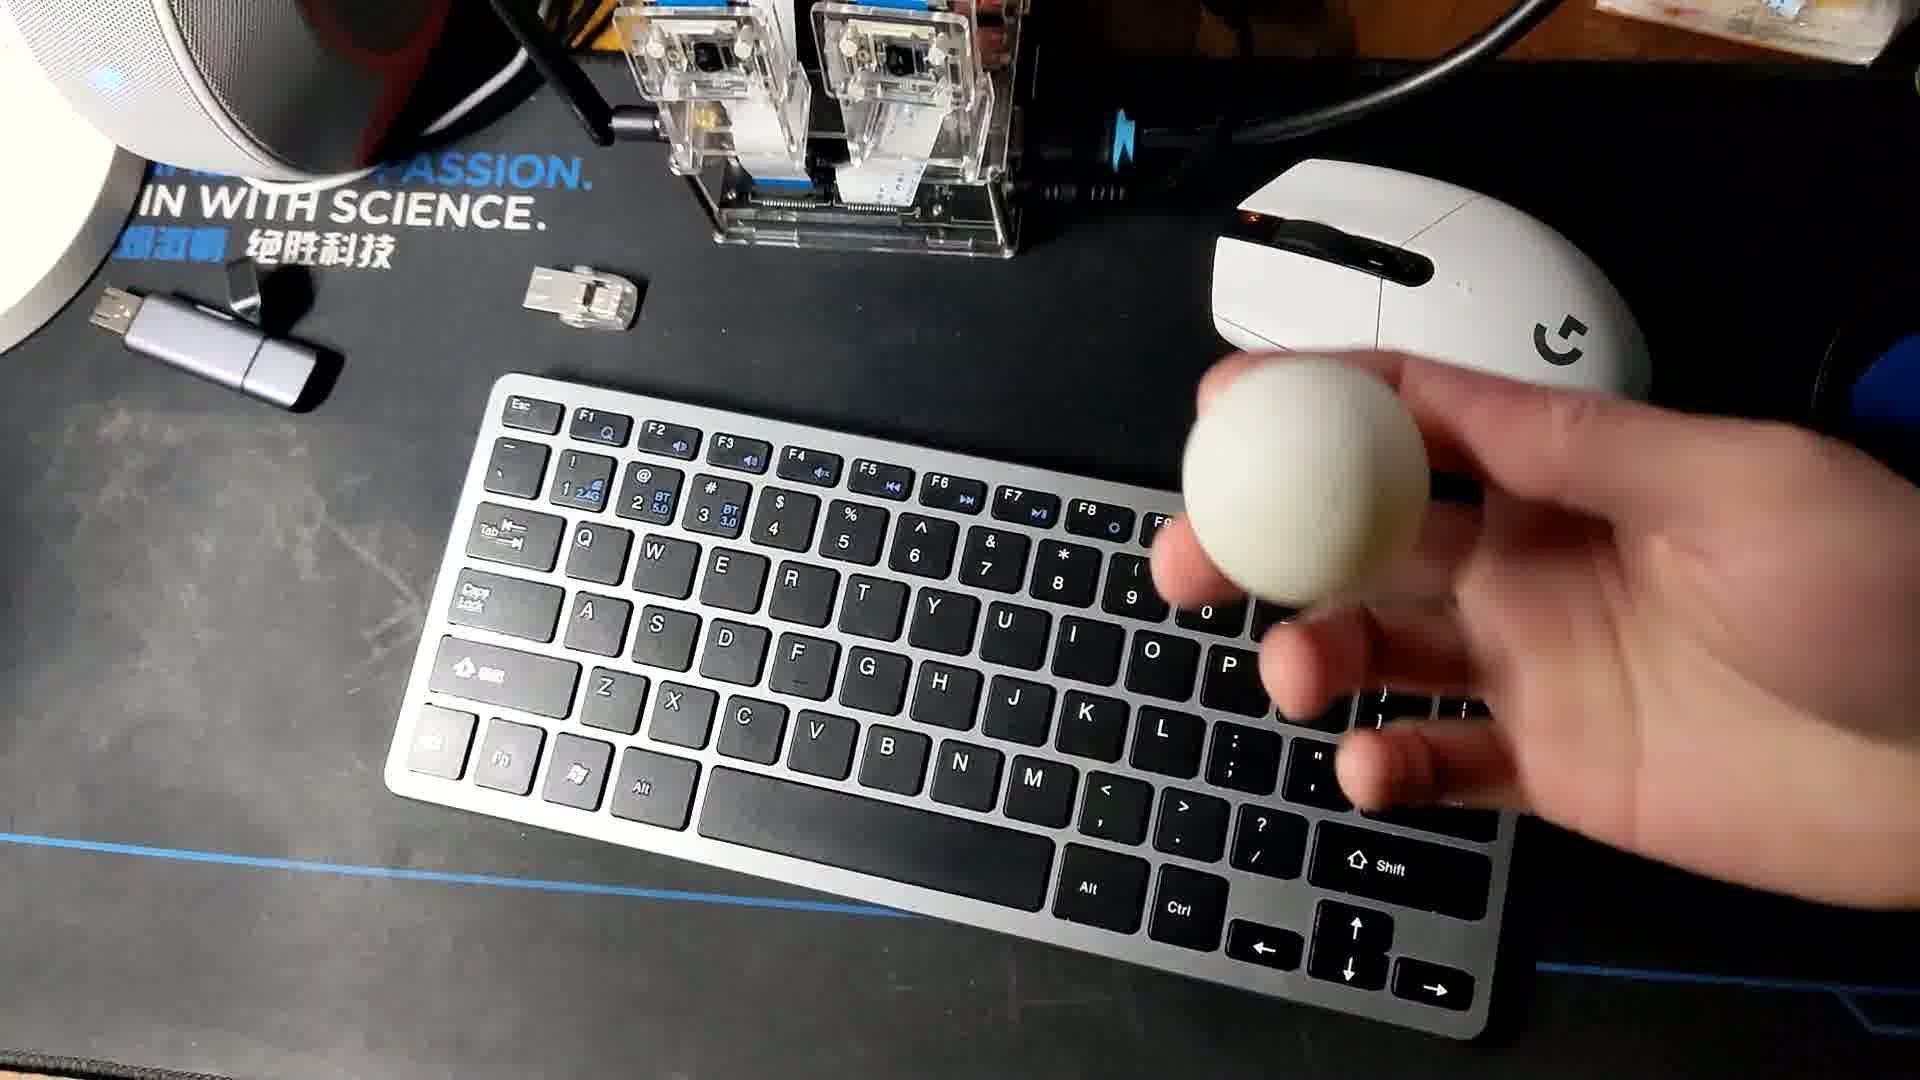Ball: (1185, 359, 1427, 611)
